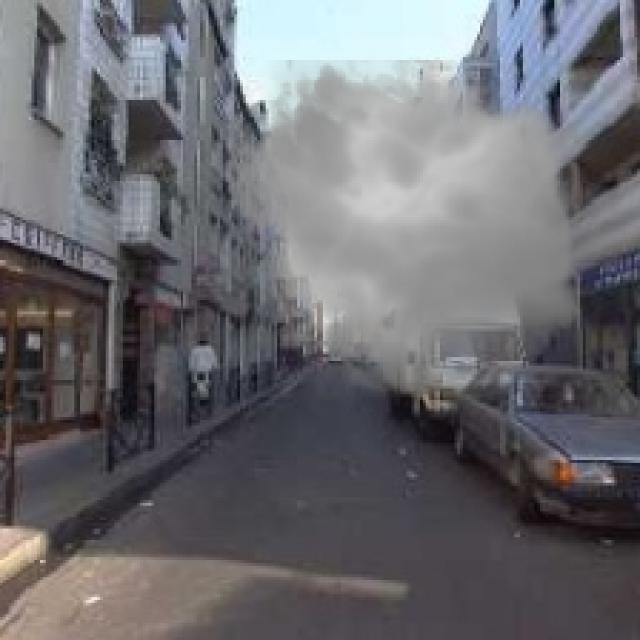smoke: (214, 43, 600, 408)
